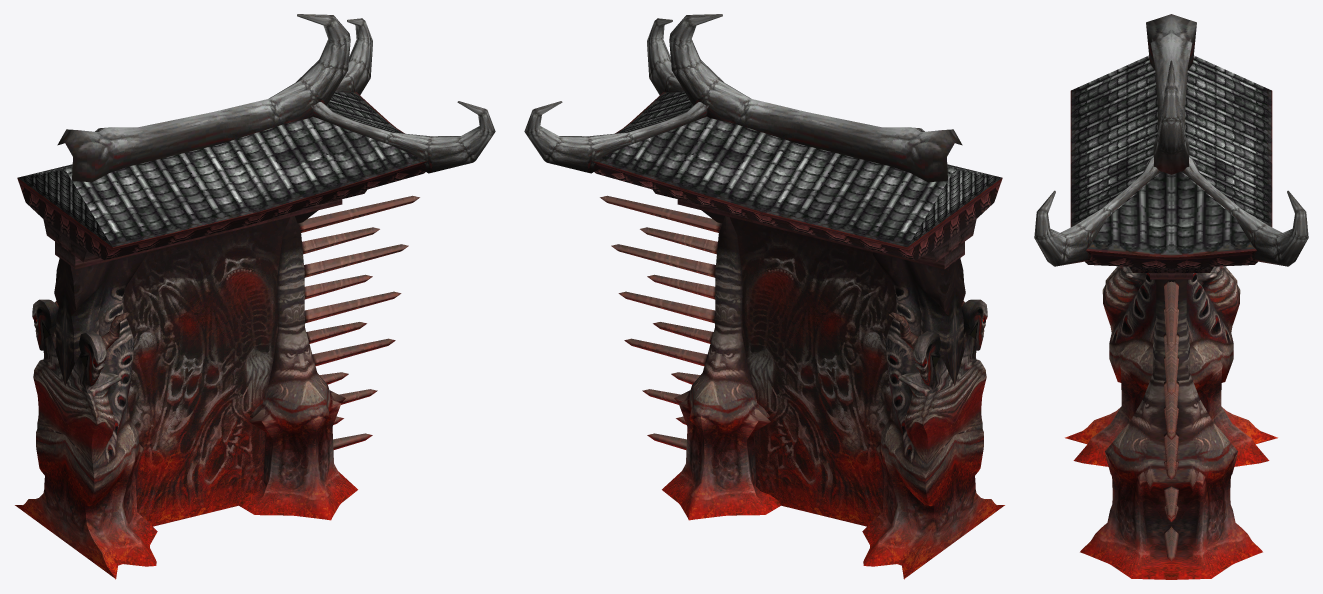
File: otherworld_wall_00.glb
The picture shows the model from 3 angles, left to right: view 1: azimuth 30°, elevation 25°; view 2: azimuth 150°, elevation 25°; view 3: azimuth 270°, elevation 25°; orthographic projection. The views are drawn at different scales.
Parts seen in each view (by area): view 1: otherworld_wall_00; view 2: otherworld_wall_00; view 3: otherworld_wall_00.
Part boxes in pixels (x1,y1,x2,y2): otherworld_wall_00: (15, 14, 495, 579); otherworld_wall_00: (524, 14, 1004, 579); otherworld_wall_00: (1034, 14, 1308, 579).
Size of the model in its own units: 8.26 by 10.14 by 5.08.
Materials: 4 (4 with a texture image).
